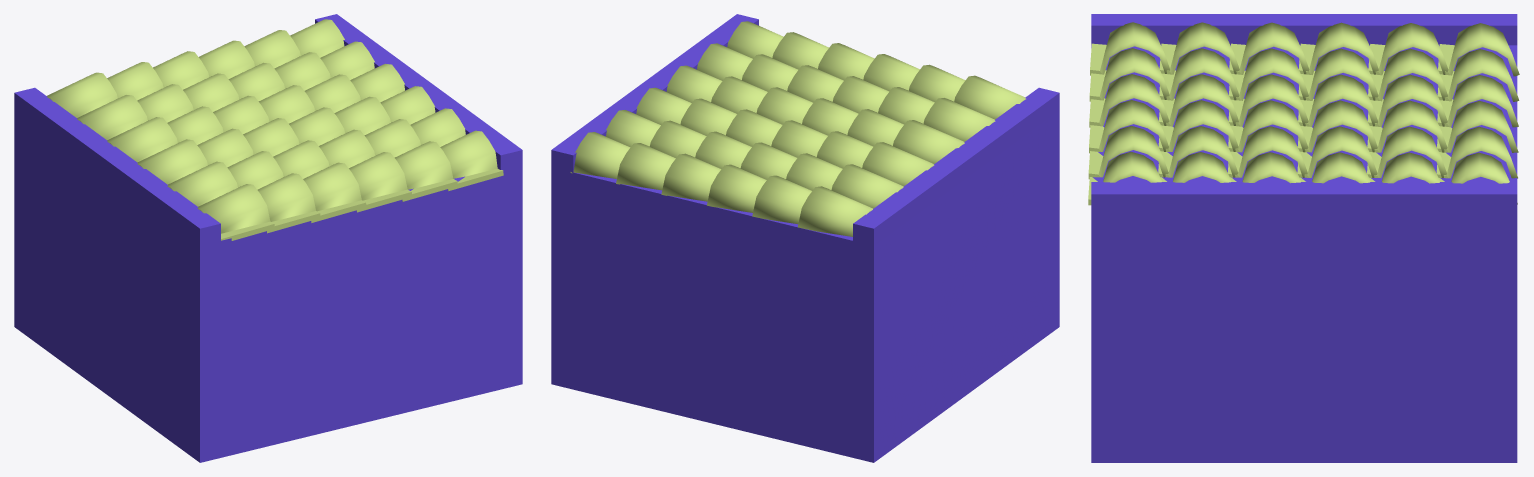
The model's file is TejadoPlano1.fbx.
3 views of the same model, side by side, from view 1: azimuth 30°, elevation 25°; view 2: azimuth 150°, elevation 25°; view 3: azimuth 270°, elevation 25° (orthographic). The views are drawn at different scales.
Parts seen in each view (by area): view 1: Pared_Base.008, Tejado.003; view 2: Pared_Base.008, Tejado.003; view 3: Pared_Base.008, Tejado.003.
Part boxes in pixels (left/top/right/bottom): Pared_Base.008: left=14, top=14, right=522, bottom=462; Tejado.003: left=47, top=19, right=503, bottom=240; Pared_Base.008: left=551, top=14, right=1059, bottom=462; Tejado.003: left=570, top=21, right=1025, bottom=236; Pared_Base.008: left=1091, top=14, right=1517, bottom=462; Tejado.003: left=1088, top=22, right=1519, bottom=205.
Size of the model in its own units: 384 by 281 by 388.
